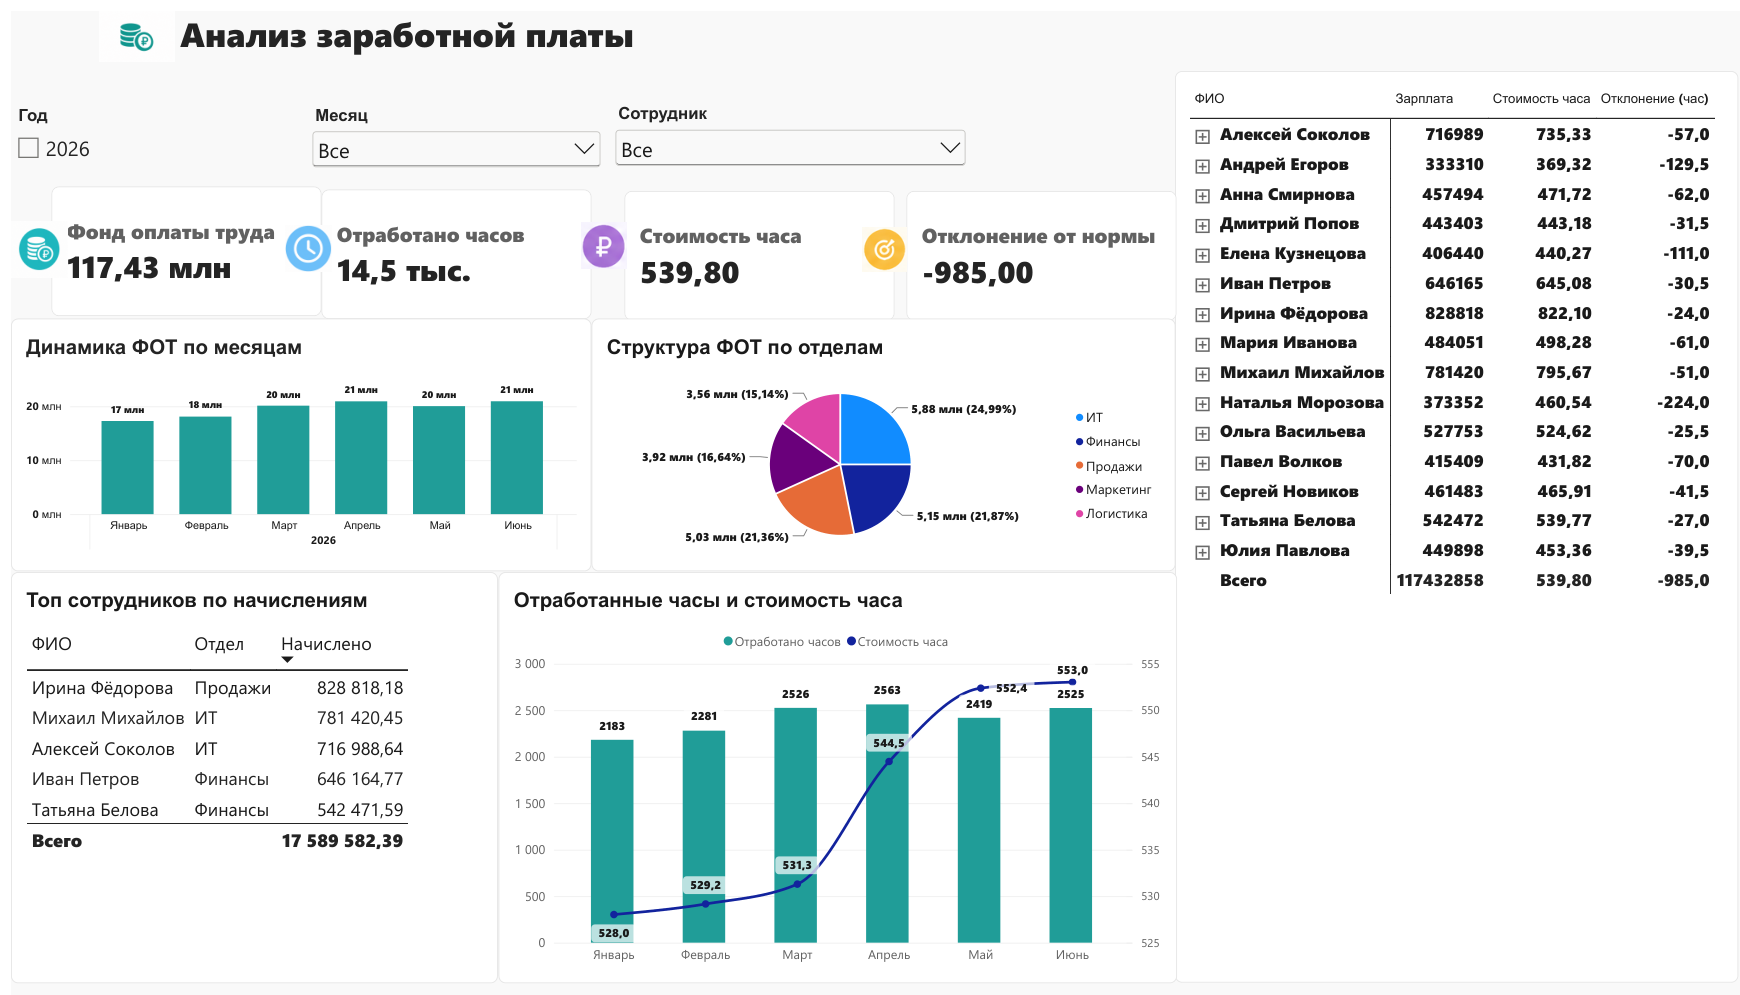

Layout of this report page (visuals, bound fields, positions):
{"tool":"powerbi","page":{"name":"Страница 1","canvas":[1920,1080],"ordinal":0},"visuals":[{"type":"slicer","fields":{"Values":["Employees.ФИО"]},"box":[666.3,99.4,399.4,95.9],"z":0},{"type":"slicer","fields":{"Values":["MonthlyNorms.Дата.Variation.Иерархия дат.Год"]},"box":[0,101.2,329.7,94.2],"z":1000},{"type":"pivotTable","fields":{"Rows":["Employees.ФИО","MonthlyNorms.Дата.Variation.Иерархия дат.Год","MonthlyNorms.Дата.Variation.Иерархия дат.Месяц","MonthlyNorms.Дата.Variation.Иерархия дат.День"],"Values":["Employees.Hour cost1","Employees.Hour1","Employees.Отклонение от нормы"]},"box":[1293.9,66.6,625.8,1012.7],"z":2000},{"type":"cardVisual","fields":{"Data":["Employees.Hour cost1"]},"box":[45.3,195.3,300,144.8],"z":3000},{"type":"textbox","box":[14,0,852.9,71.5],"z":4000},{"type":"slicer","fields":{"Values":["MonthlyNorms.Дата.Variation.Иерархия дат.Месяц"]},"box":[329.7,101.2,329.7,95.9],"z":5000},{"type":"cardVisual","fields":{"Data":["Sum(Timesheet.Отработано часов)"]},"box":[345.3,198.8,300,144],"z":6000},{"type":"cardVisual","fields":{"Data":["Employees.Hour1"]},"box":[682,200.6,300,144.8],"z":7000},{"type":"image","box":[89,0,102.9,55.8],"z":8000},{"type":"cardVisual","fields":{"Data":["Employees.Отклонение от нормы"]},"box":[994.2,200.6,300,144.8],"z":9000},{"type":"clusteredColumnChart","title":"Динамика ФОТ по месяцам","fields":{"Category":["MonthlyNorms.Дата.Variation.Иерархия дат.Год","MonthlyNorms.Дата.Variation.Иерархия дат.Месяц"],"Y":["Employees.Hour cost1"]},"box":[0,341.9,645.4,280.8],"z":10000},{"type":"pieChart","title":"Структура ФОТ по отделам","fields":{"Category":["Employees.Отдел"],"Y":["Employees.Hour cost1"]},"box":[645.4,341.9,648.8,280.8],"z":11000},{"type":"lineClusteredColumnComboChart","title":"Отработанные часы и стоимость часа","fields":{"Category":["MonthlyNorms.Дата.Variation.Иерархия дат.Месяц"],"Y":["Sum(Timesheet.Отработано часов)"],"Y2":["Employees.Hour1"]},"box":[541.1,623.1,754,457.3],"z":12000},{"type":"tableEx","title":"Топ сотрудников по начислениям","fields":{"Values":["Employees.ФИО","Employees.Отдел","Employees.Hour cost1"]},"box":[0,623.1,541.1,457.3],"z":13000},{"type":"image","box":[0,233.7,62.8,62.8],"z":14000},{"type":"image","box":[305.2,235.5,50.6,57.6],"z":14001},{"type":"image","box":[622.7,235.5,71.5,50.6],"z":14002},{"type":"image","box":[934.9,240.7,71.5,48.8],"z":14003}]}

Visuals, with their boxes in screenshot pixels (x1, y1, x2, y2), scaled from the page's 1920x1080 canvas onto the 1740x995 screenshot:
slicer - Employees.ФИО: (604, 92, 966, 180)
slicer - MonthlyNorms.Дата.Variation.Иерархия дат.Год: (0, 93, 299, 180)
pivotTable - Employees.ФИО x MonthlyNorms.Дата.Variation.Иерархия дат.Год: (1173, 61, 1739, 994)
cardVisual - Employees.Hour cost1: (41, 180, 313, 313)
textbox: (13, 0, 786, 66)
slicer - MonthlyNorms.Дата.Variation.Иерархия дат.Месяц: (299, 93, 598, 182)
cardVisual - Sum(Timesheet.Отработано часов): (313, 183, 585, 316)
cardVisual - Employees.Hour1: (618, 185, 890, 318)
image: (81, 0, 174, 51)
cardVisual - Employees.Отклонение от нормы: (901, 185, 1173, 318)
"Динамика ФОТ по месяцам" clusteredColumnChart: (0, 315, 585, 574)
"Структура ФОТ по отделам" pieChart: (585, 315, 1173, 574)
"Отработанные часы и стоимость часа" lineClusteredColumnComboChart: (490, 574, 1174, 994)
"Топ сотрудников по начислениям" tableEx: (0, 574, 490, 994)
image: (0, 215, 57, 273)
image: (277, 217, 322, 270)
image: (564, 217, 629, 264)
image: (847, 222, 912, 267)
